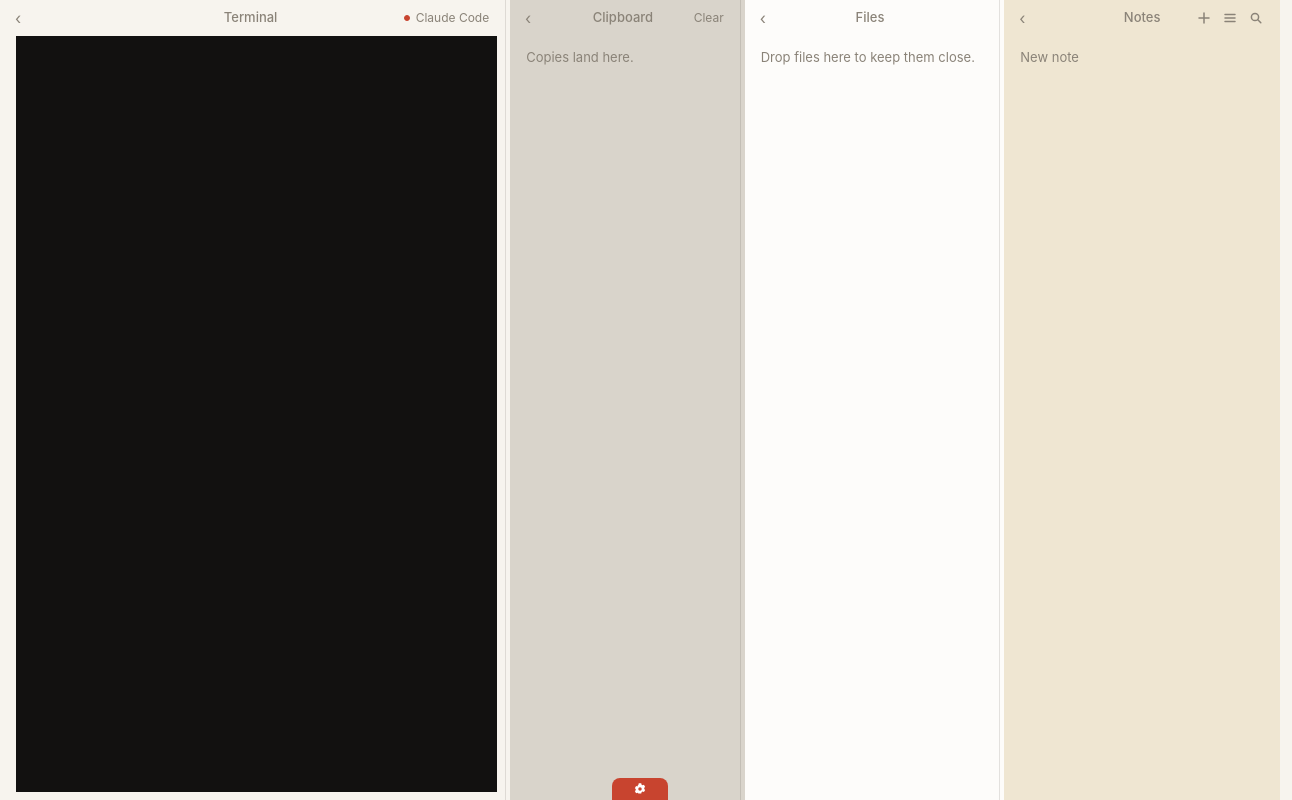
Scenario: the settings handle › offers "Show menu bar icon" when the saved setting has it hidden
Step 1. Click the button named "Settings" → point(640, 789), box [612, 778, 668, 799]
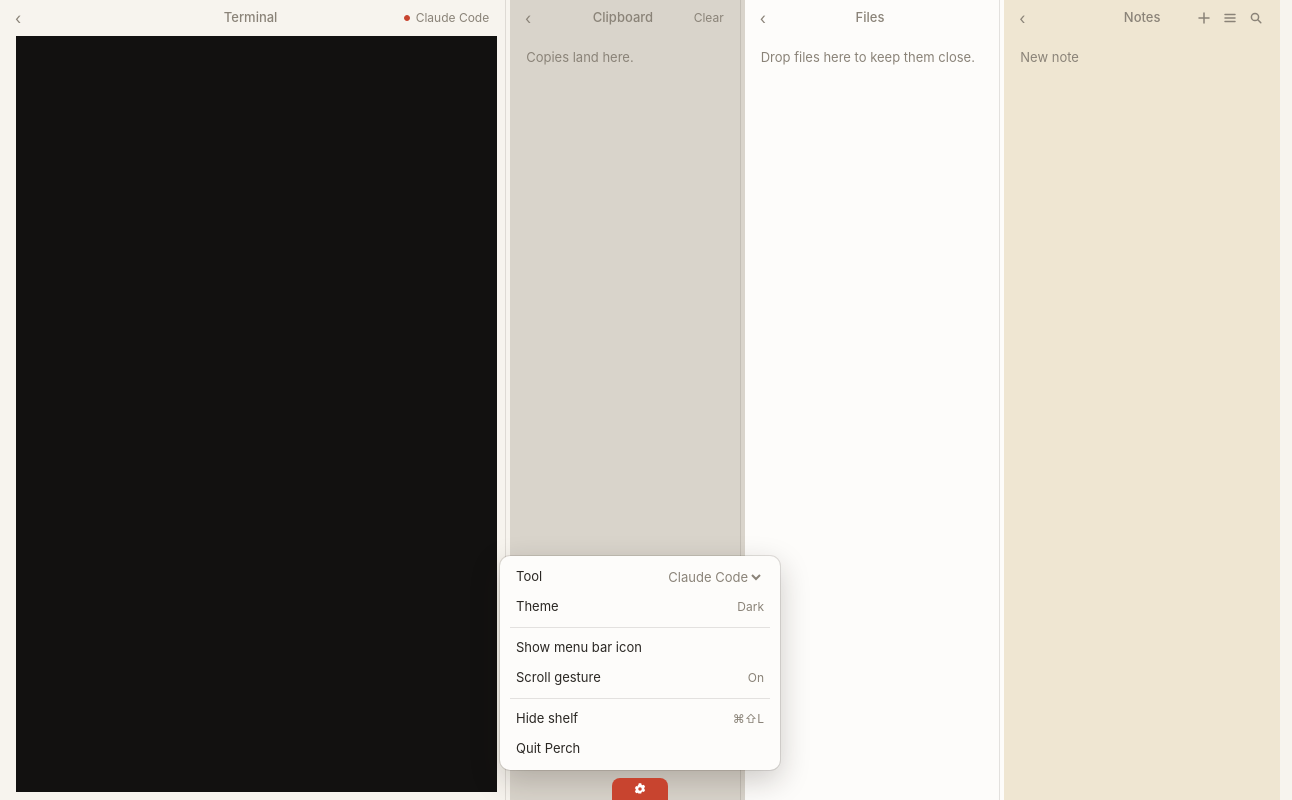
Expected: the button "Show menu bar icon" is shown, [506, 633, 774, 663]
